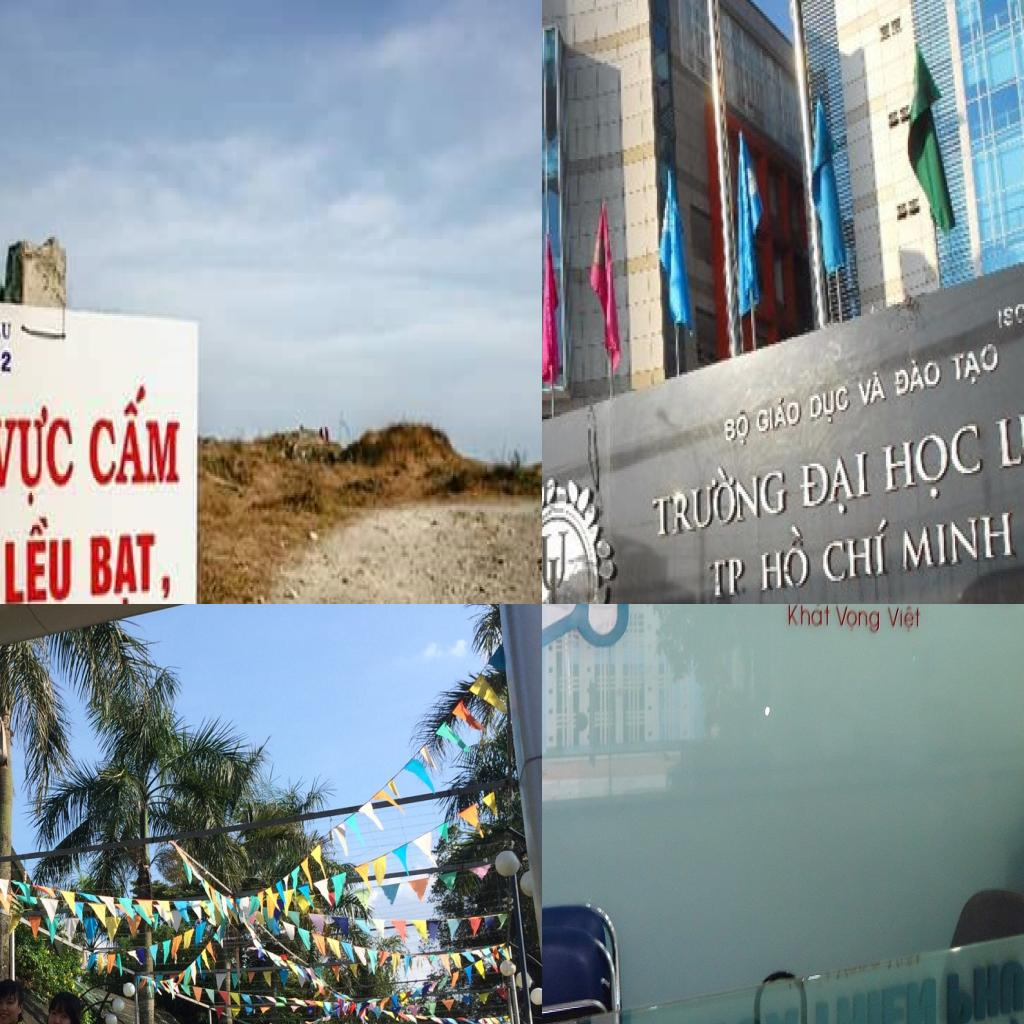text: (650, 450, 790, 546), (86, 378, 187, 501), (880, 417, 988, 513), (0, 397, 81, 510), (900, 504, 1019, 578), (85, 518, 178, 604), (0, 512, 77, 604), (798, 447, 877, 525), (820, 513, 892, 590), (757, 522, 814, 597), (992, 372, 1024, 496), (890, 349, 946, 405), (947, 340, 1002, 394), (756, 388, 803, 442), (809, 379, 853, 433), (704, 550, 748, 604), (542, 524, 571, 594), (853, 368, 891, 412), (834, 604, 880, 636), (723, 405, 753, 450), (547, 555, 573, 604), (995, 295, 1024, 337), (885, 604, 922, 632), (786, 604, 831, 627), (1, 346, 16, 376), (0, 315, 13, 341)
